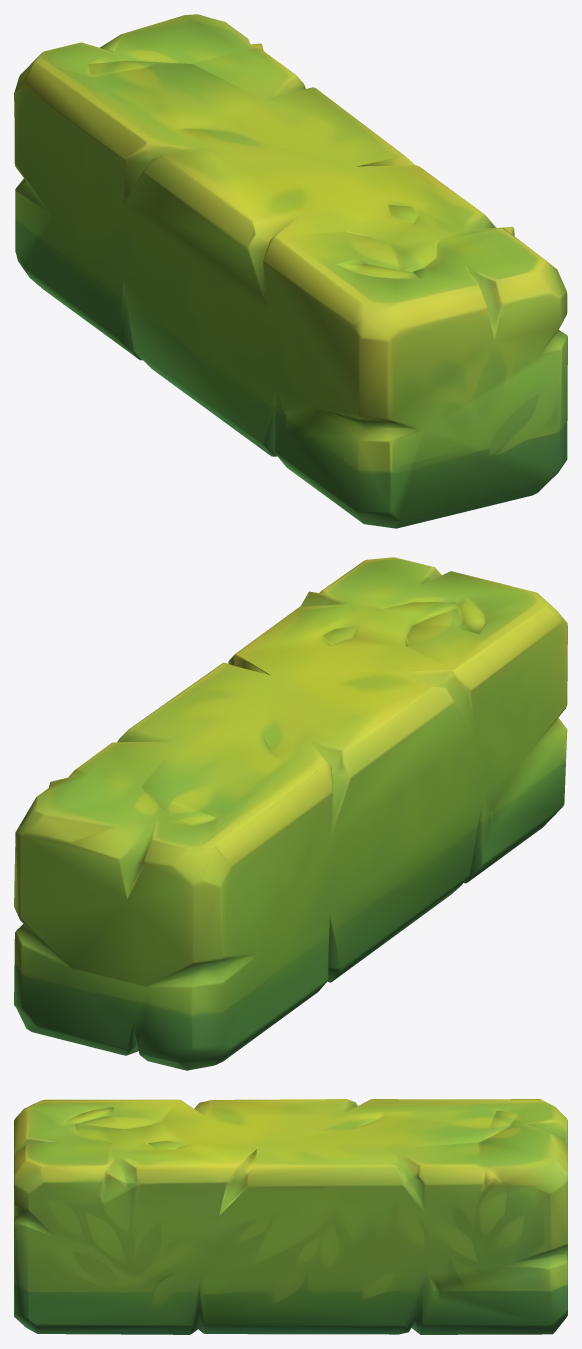
File: tripo_raw.glb
3 renders of one model, top to bottom at view 1: azimuth 30°, elevation 25°; view 2: azimuth 150°, elevation 25°; view 3: azimuth 270°, elevation 25°, orthographic. The views are drawn at different scales.
Visible parts, largest first — view 1: tripo_node_da5f19bc-0d93-4bd4-ab81-582ed4d10367; view 2: tripo_node_da5f19bc-0d93-4bd4-ab81-582ed4d10367; view 3: tripo_node_da5f19bc-0d93-4bd4-ab81-582ed4d10367.
Boxes of the visible parts, x1=… form: tripo_node_da5f19bc-0d93-4bd4-ab81-582ed4d10367: x1=14, y1=14, x2=567, y2=528; tripo_node_da5f19bc-0d93-4bd4-ab81-582ed4d10367: x1=14, y1=557, x2=567, y2=1070; tripo_node_da5f19bc-0d93-4bd4-ab81-582ed4d10367: x1=14, y1=1099, x2=567, y2=1334.
Size of the model in its own units: 0.3307 by 0.3386 by 1.
1 material, 1 textured.
